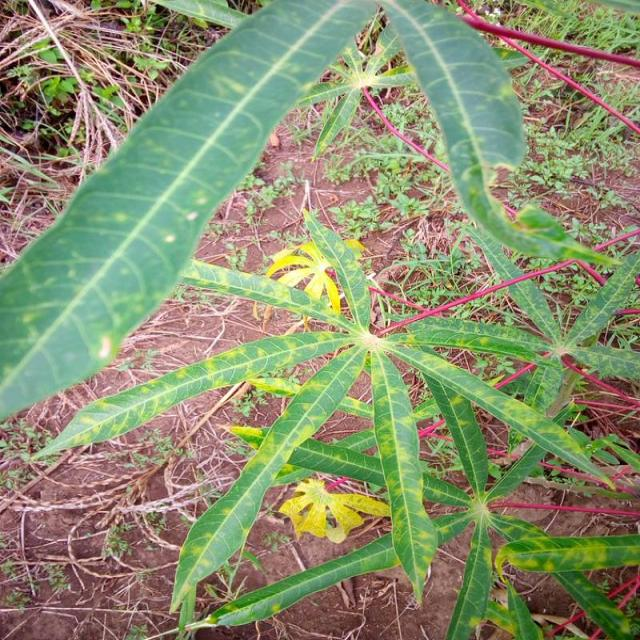cassava leaf: (0, 0, 377, 423), (380, 0, 618, 269)
